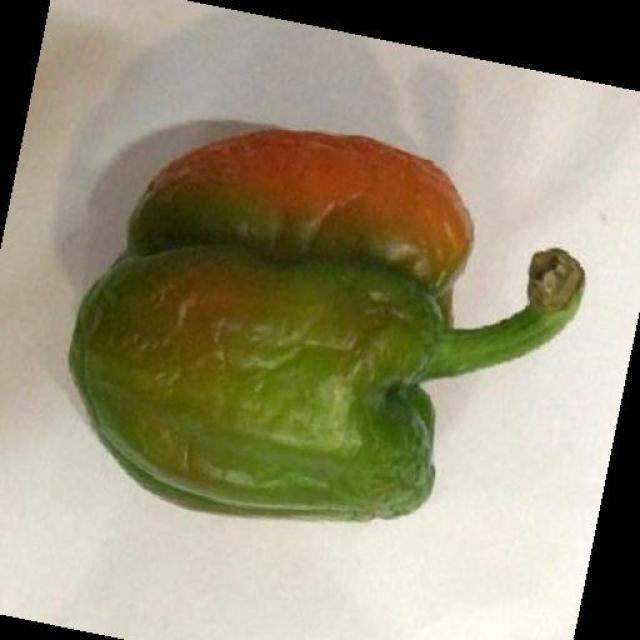Stale_Capsicum: (94, 123, 522, 516)
